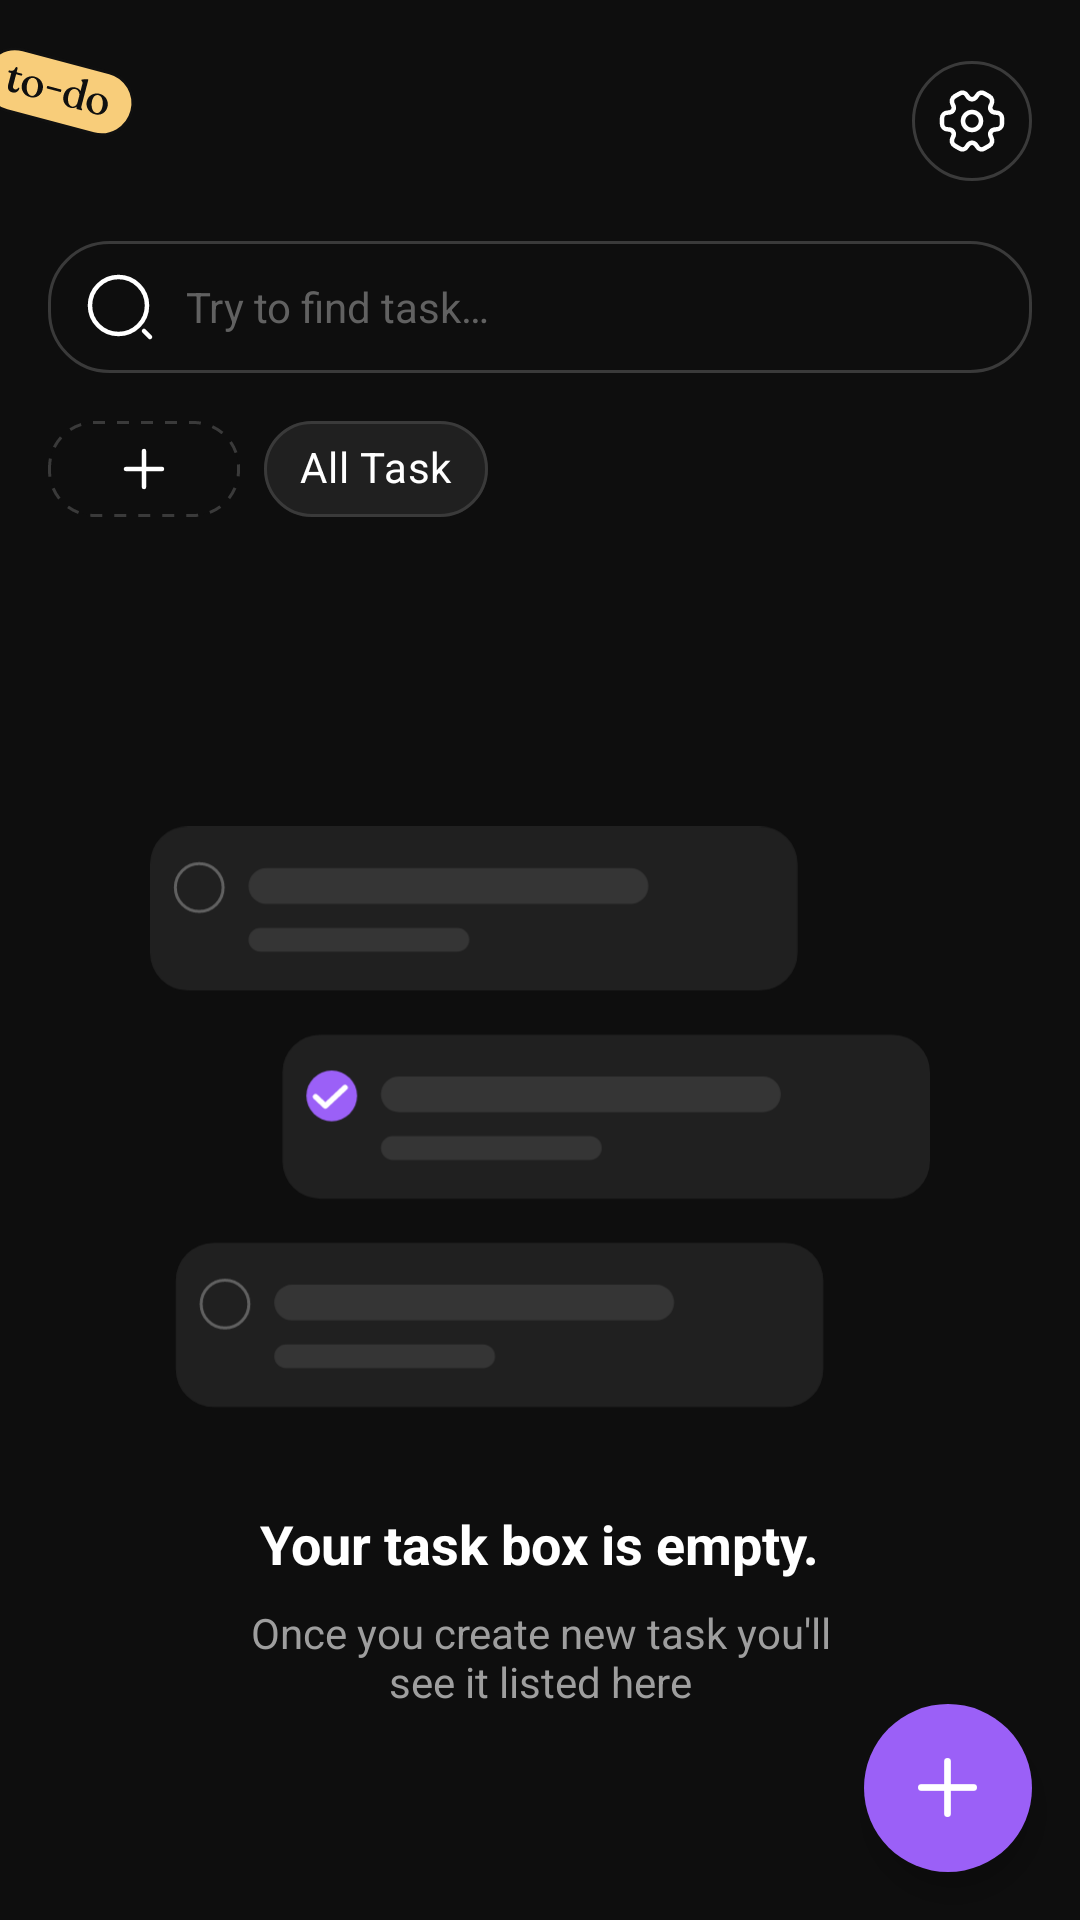

Named icons in this screenshot (1080px×1920px) and their bounding boxes, (x1, y1, x2, y2):
Add New Category: (48, 421, 240, 517)
Add Task: (864, 1704, 1032, 1872)
search: (87, 274, 153, 340)
Settings: (912, 61, 1032, 181)
